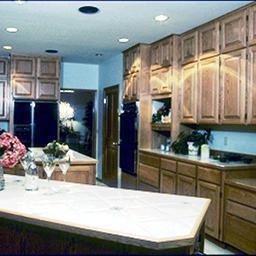Electrodomestico: (117, 102, 140, 174)
Puerta: (104, 89, 119, 184)
